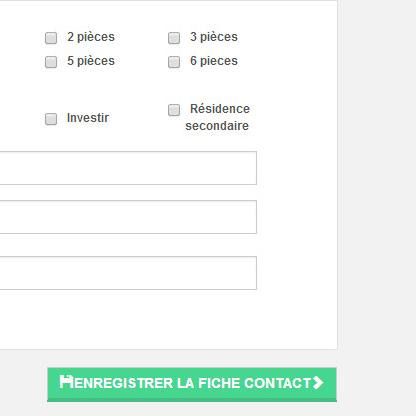button: (45, 364, 340, 404)
checkbox: (42, 54, 60, 69), (42, 111, 58, 127), (165, 30, 179, 45), (165, 103, 180, 117), (166, 53, 179, 69), (45, 30, 57, 46)
checkbox_with_label: (162, 99, 253, 130), (38, 50, 115, 73), (38, 107, 112, 130), (164, 50, 236, 73), (163, 26, 238, 48), (41, 27, 117, 48)
